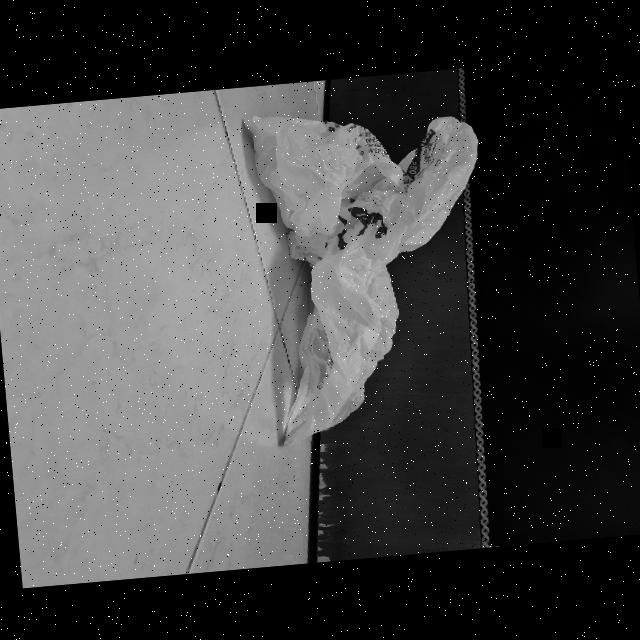plastic_bag: (238, 92, 510, 448)
